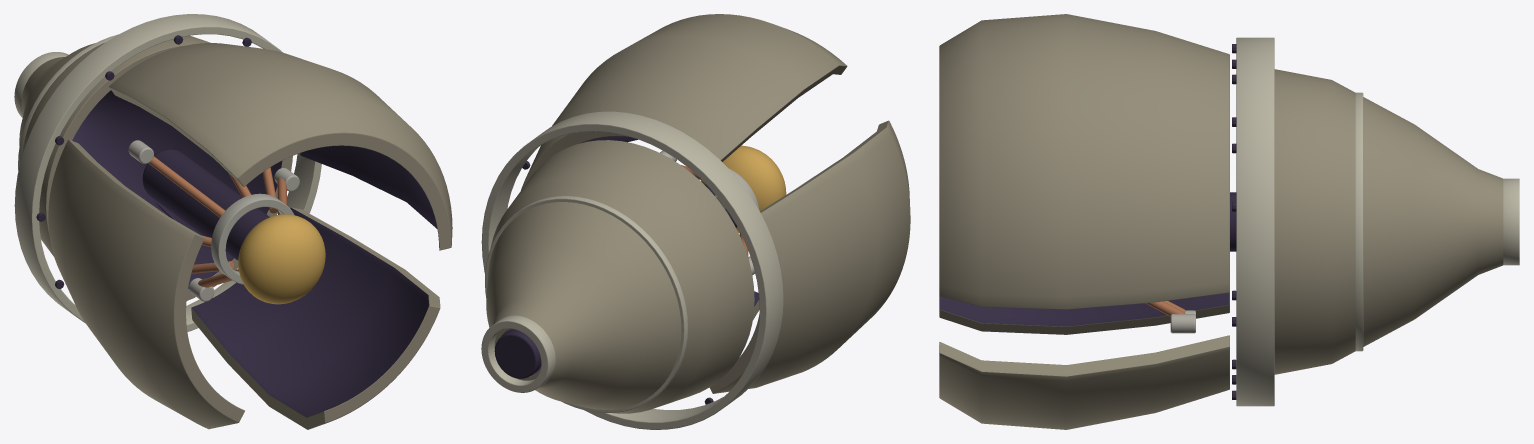
3 views of the same model, side by side, from view 1: azimuth 30°, elevation 25°; view 2: azimuth 150°, elevation 25°; view 3: azimuth 270°, elevation 25° (orthographic). The views are drawn at different scales.
Parts seen in each view (by area): view 1: Open swept shell petal, Open swept shell petal.002, Open swept shell petal.001, Tapered connector pressure shell, Broad mounting collar, Gold central emitter, Shield axial equipment spine, Emitter insulator collar, Internal copper feed.003, Connector service ring, Connector terminal lip, Internal radial insulator.003; view 2: Tapered connector pressure shell, Open swept shell petal.001, Open swept shell petal, Broad mounting collar, Connector service ring, Connector terminal lip, Gold central emitter, Recessed connector interior; view 3: Open swept shell petal, Tapered connector pressure shell, Open swept shell petal.002, Broad mounting collar, Open swept shell petal.001, Connector service ring, Connector terminal lip.
Part boxes in pixels (x1,y1,x2,y2): Open swept shell petal: [109, 43, 452, 250]; Open swept shell petal.002: [191, 207, 440, 429]; Open swept shell petal.001: [48, 139, 244, 429]; Tapered connector pressure shell: [19, 35, 292, 300]; Broad mounting collar: [14, 14, 321, 331]; Gold central emitter: [238, 214, 325, 304]; Shield axial equipment spine: [142, 149, 269, 260]; Emitter insulator collar: [211, 193, 294, 284]; Internal copper feed.003: [148, 156, 225, 217]; Connector service ring: [18, 34, 117, 170]; Connector terminal lip: [14, 52, 68, 117]; Internal radial insulator.003: [128, 140, 153, 163]; Tapered connector pressure shell: [486, 140, 754, 413]; Open swept shell petal.001: [709, 120, 910, 393]; Open swept shell petal: [521, 14, 847, 190]; Broad mounting collar: [481, 111, 783, 429]; Connector service ring: [485, 196, 687, 412]; Connector terminal lip: [481, 315, 555, 392]; Gold central emitter: [701, 145, 786, 232]; Recessed connector interior: [494, 329, 541, 378]; Open swept shell petal: [939, 14, 1229, 309]; Tapered connector pressure shell: [1274, 69, 1503, 374]; Open swept shell petal.002: [939, 335, 1229, 429]; Broad mounting collar: [1236, 37, 1274, 406]; Open swept shell petal.001: [939, 292, 1229, 334]; Connector service ring: [1355, 92, 1363, 351]; Connector terminal lip: [1503, 178, 1519, 265].
Size of the model in its own units: 1.96 by 1.96 by 2.73.
